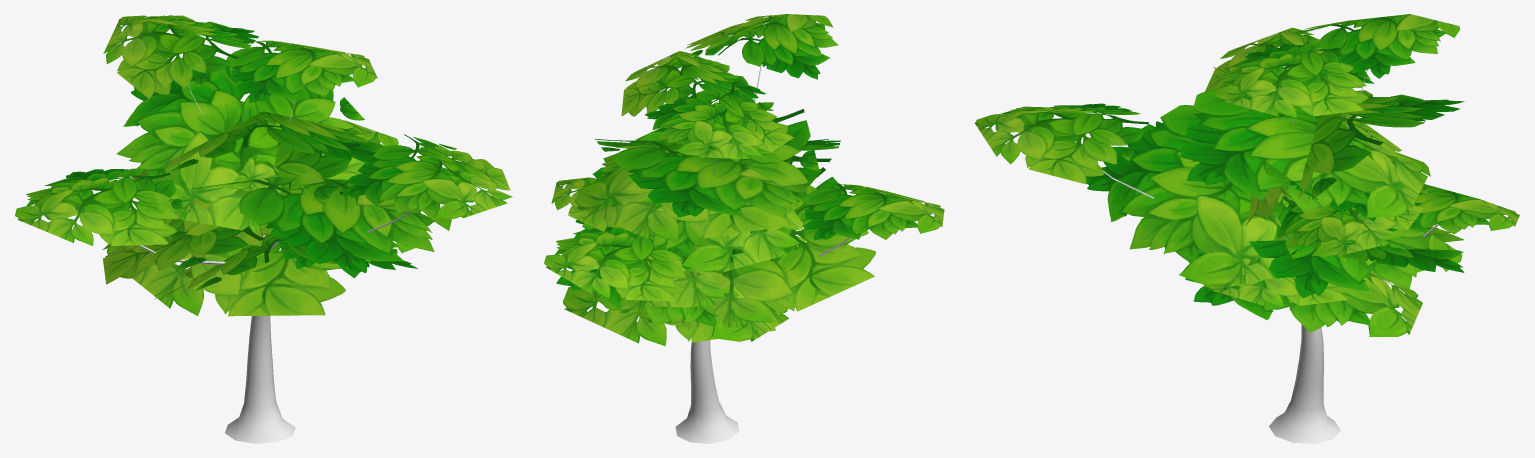
The model's file is TreeType1Big.FBX.
The picture shows the model from 3 angles, left to right: view 1: azimuth 30°, elevation 25°; view 2: azimuth 150°, elevation 25°; view 3: azimuth 270°, elevation 25°; orthographic projection. The views are drawn at different scales.
Parts seen in each view (by area): view 1: ATree3D_TreeType1_026_Leaves, ATree3D_TreeType1_026; view 2: ATree3D_TreeType1_026_Leaves, ATree3D_TreeType1_026; view 3: ATree3D_TreeType1_026_Leaves, ATree3D_TreeType1_026.
Part boxes in pixels (box(x1,y1,x2,y2)): ATree3D_TreeType1_026_Leaves: box(15, 15, 512, 316); ATree3D_TreeType1_026: box(138, 84, 412, 443); ATree3D_TreeType1_026_Leaves: box(544, 14, 944, 345); ATree3D_TreeType1_026: box(675, 64, 849, 443); ATree3D_TreeType1_026_Leaves: box(974, 14, 1519, 336); ATree3D_TreeType1_026: box(1103, 70, 1438, 443).
Size of the model in its own units: 211 by 193 by 246.
